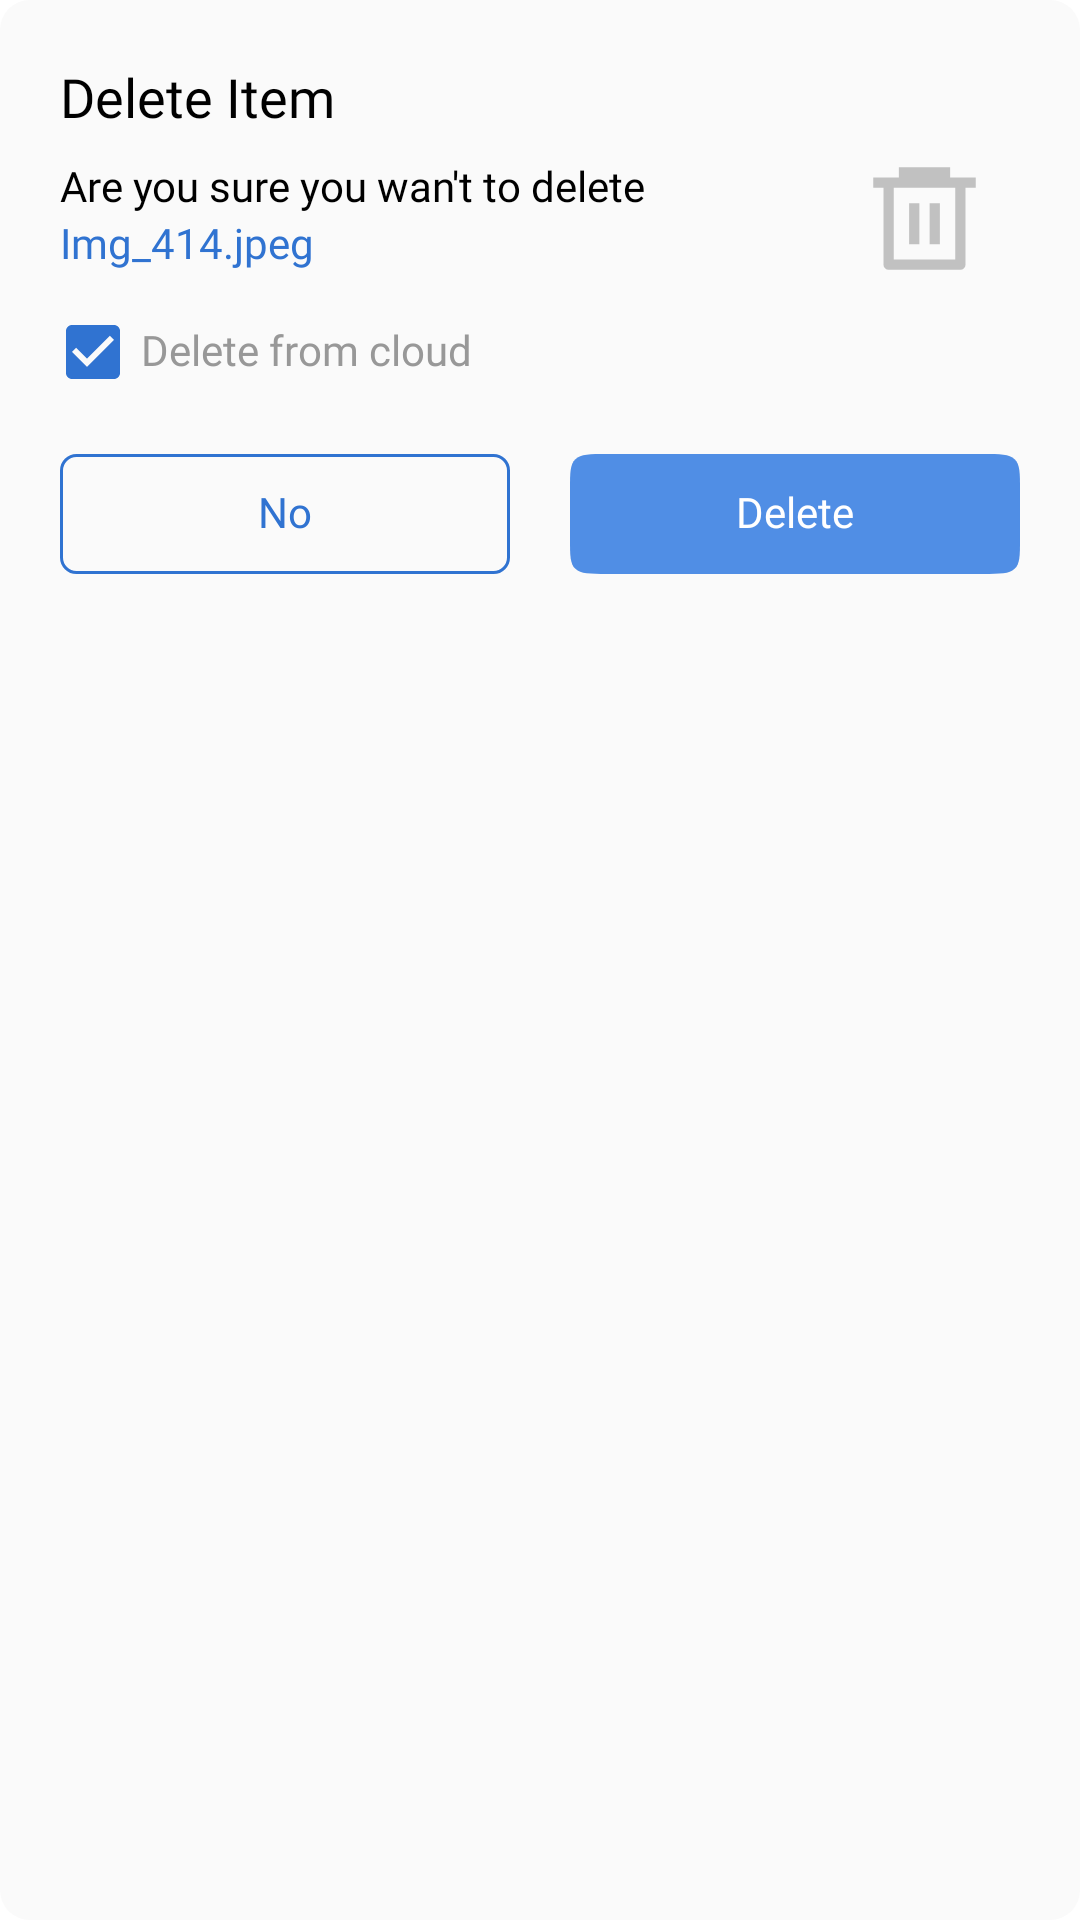

Icons on this 1080px x 1920px Android screen, each with its box as (x1,y1,x2,y2):
delete bin: (873,167,976,270)
